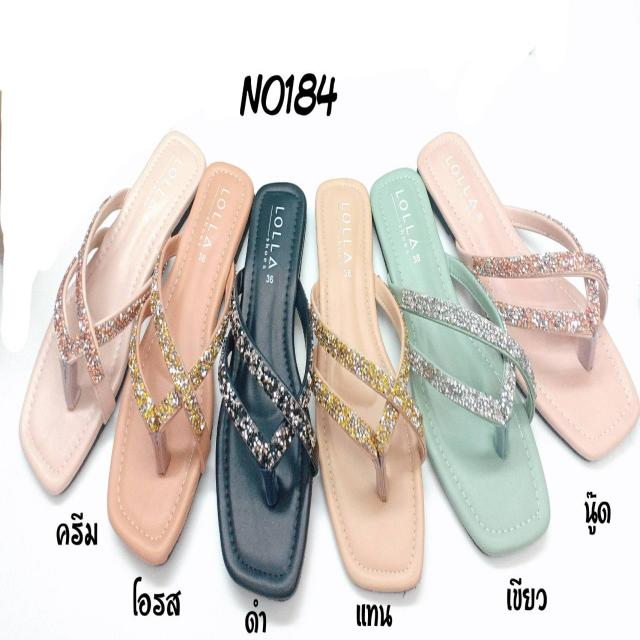black: (220, 185, 316, 599)
cream: (20, 135, 202, 476)
green: (372, 171, 548, 558)
nood: (418, 134, 635, 448)
orot: (108, 166, 250, 552)
tan: (315, 179, 424, 591)
